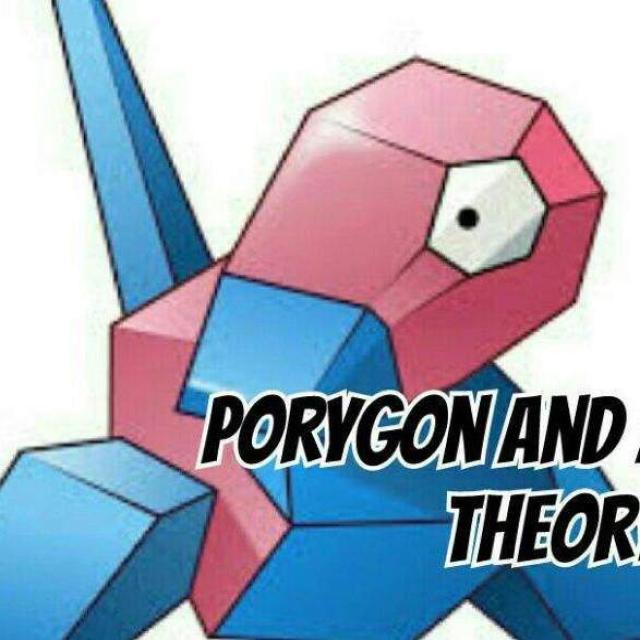Porygon: (114, 99, 591, 609)
